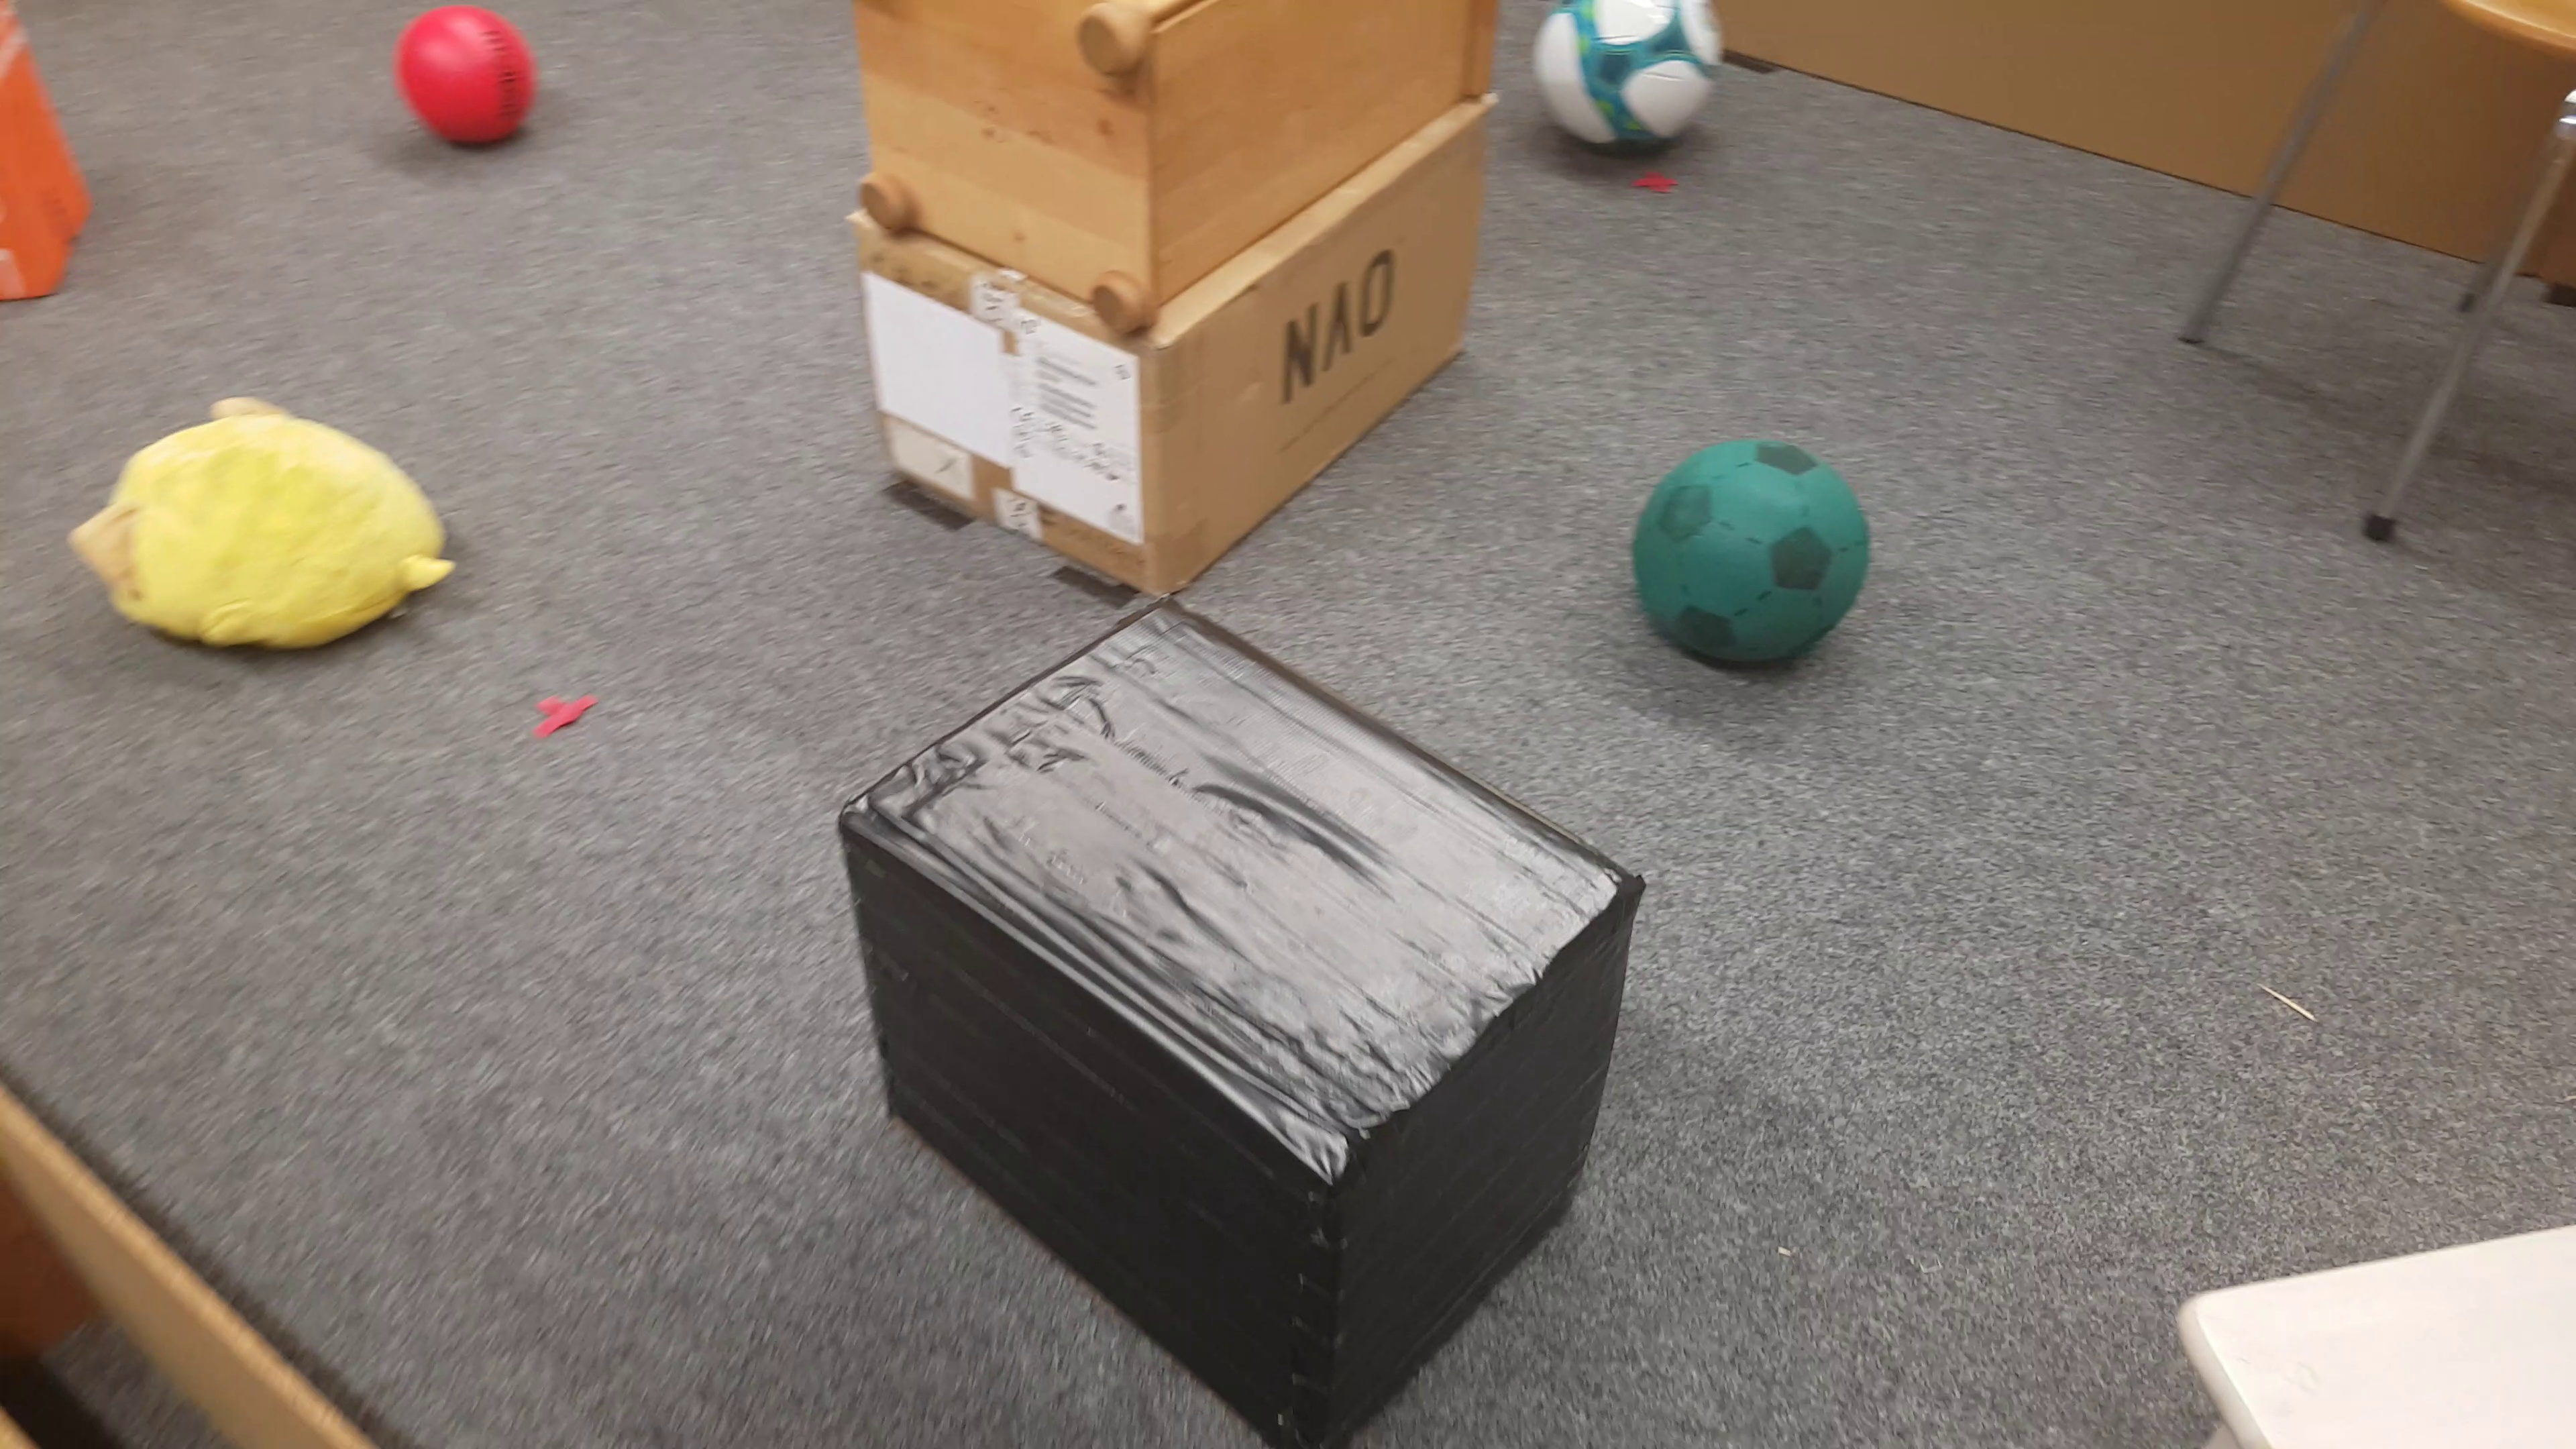grasp: (74, 395, 451, 649)
kick: (1635, 441, 1868, 671), (1530, 0, 1723, 172), (398, 2, 538, 152)
push: (830, 602, 1622, 1431)
